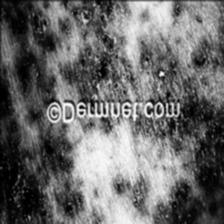Non-Cancerous Skin Condition: (0, 0, 224, 95), (49, 136, 223, 224), (0, 110, 41, 224)
